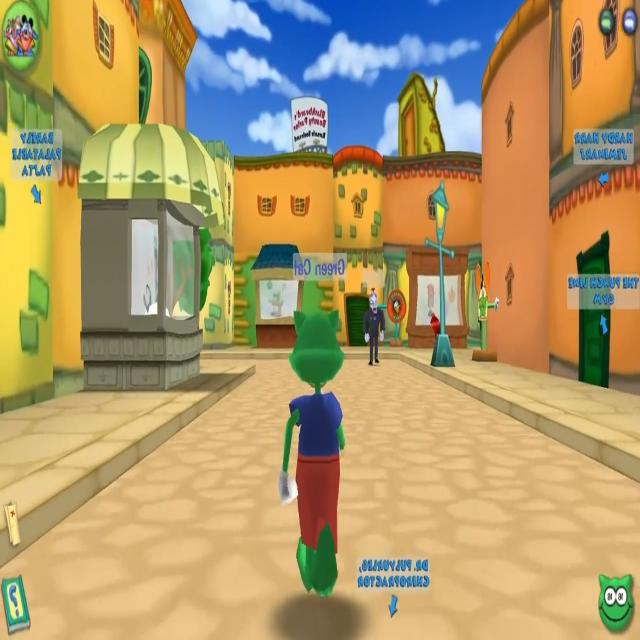doubletalker: (362, 290, 387, 364)
